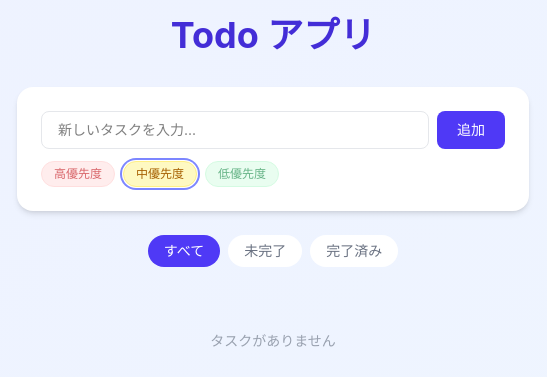
Test: Home (Todo アプリ) › 優先度 › 優先度「高」を選択してTodoを追加すると「高」ラベルが表示される
The width and height of the screenshot is (547, 377).
Click the button "高優先度" at (78, 174), box x1=41 y1=161 x2=115 y2=187
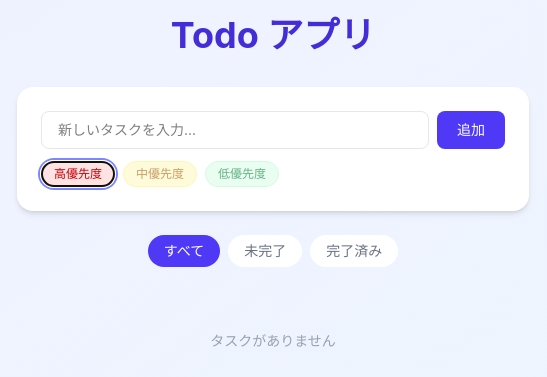
Type "高優先タスク" into the field with placeholder "新しいタスクを入力..." at (235, 130), box x1=41 y1=111 x2=429 y2=149
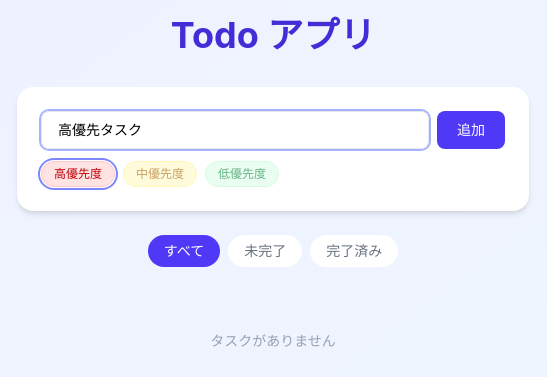
Click the button "追加" at (471, 130), box x1=437 y1=111 x2=505 y2=149
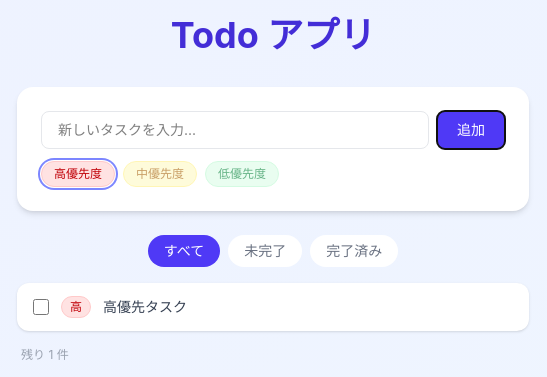
expect the text "高" is shown: met, box x1=61 y1=296 x2=91 y2=318
